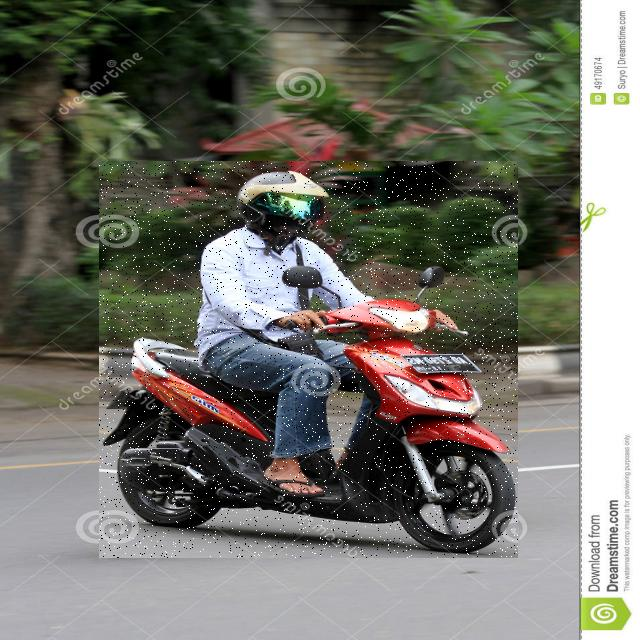With Helmet: (99, 161, 518, 558)
